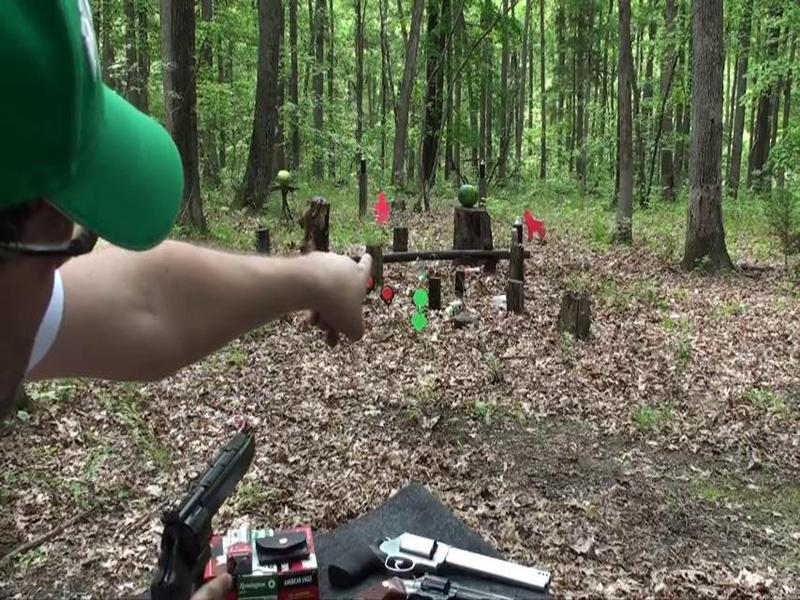Revolver: (125, 405, 297, 600)
